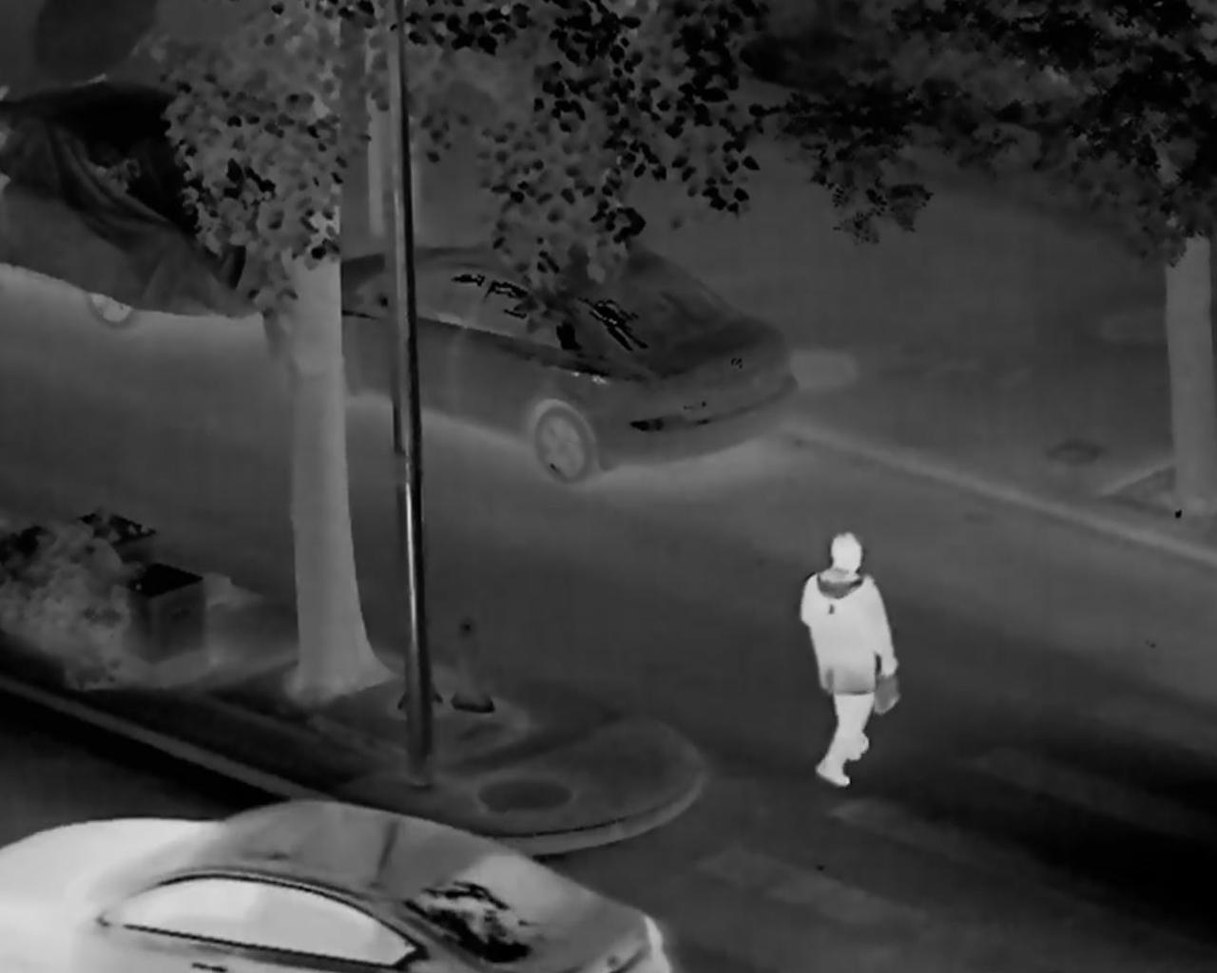person: (800, 533, 900, 787)
